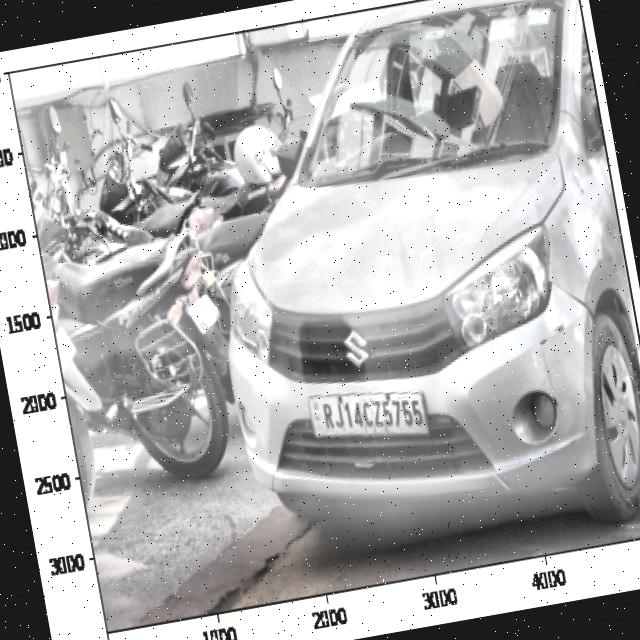license_plate: (314, 380, 428, 447)
